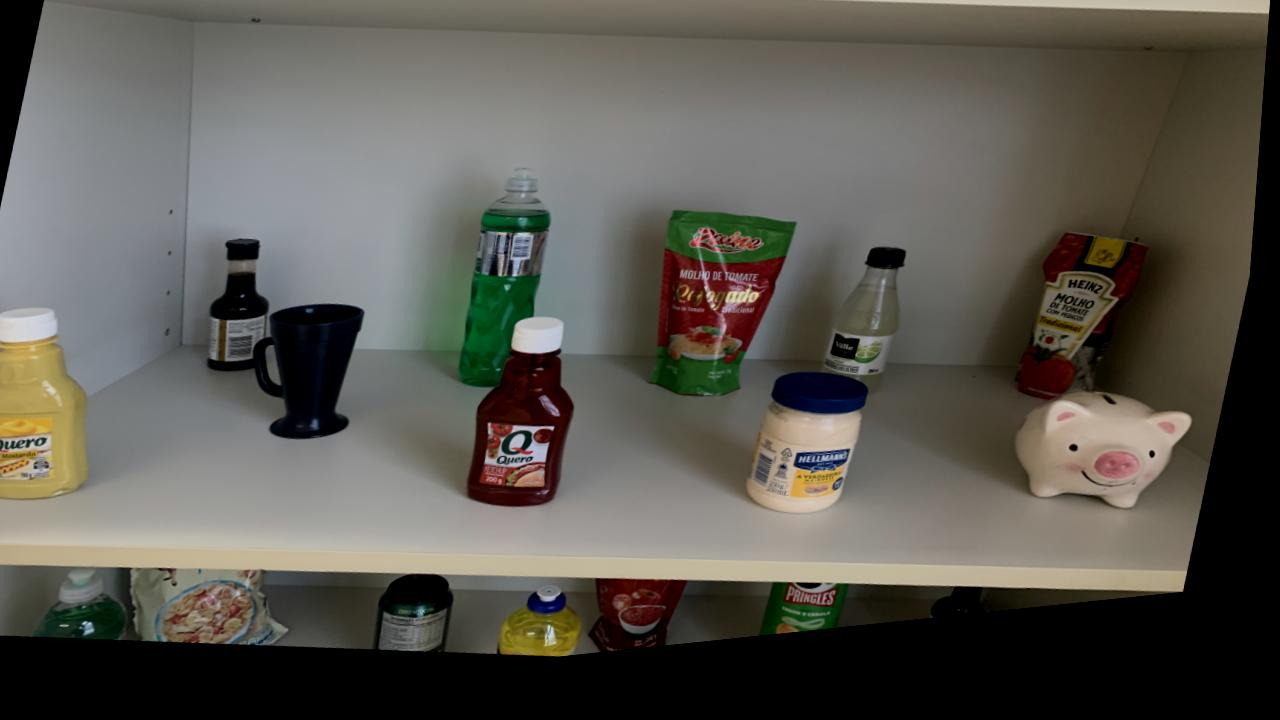Detergent-Cleanup_Items: (464, 180, 555, 398), (43, 569, 137, 643), (507, 598, 592, 670)
English_Sauce-Pantry_Items: (212, 243, 273, 377), (941, 608, 997, 640)
Flakes-Snacks: (139, 571, 296, 652)
Guarana_Can-Drinks: (382, 583, 463, 663)
Ketchup-Pantry_Items: (474, 329, 581, 519)
Mayonnaise-Pantry_Items: (754, 389, 877, 532)
Mustard-Pantry_Items: (0, 308, 96, 500)
Pig_Safe-Miscellaneous: (1022, 415, 1200, 534)
Pringles-Snacks: (770, 599, 859, 654)
Soda-Drinks: (829, 266, 911, 412)
Tomato_Sauce-Pantry_Items: (656, 226, 801, 411), (1025, 257, 1153, 423), (599, 592, 696, 667)
